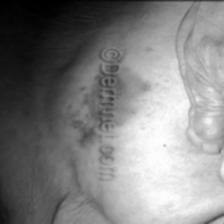Toxin: (97, 71, 141, 102), (78, 119, 102, 148)
